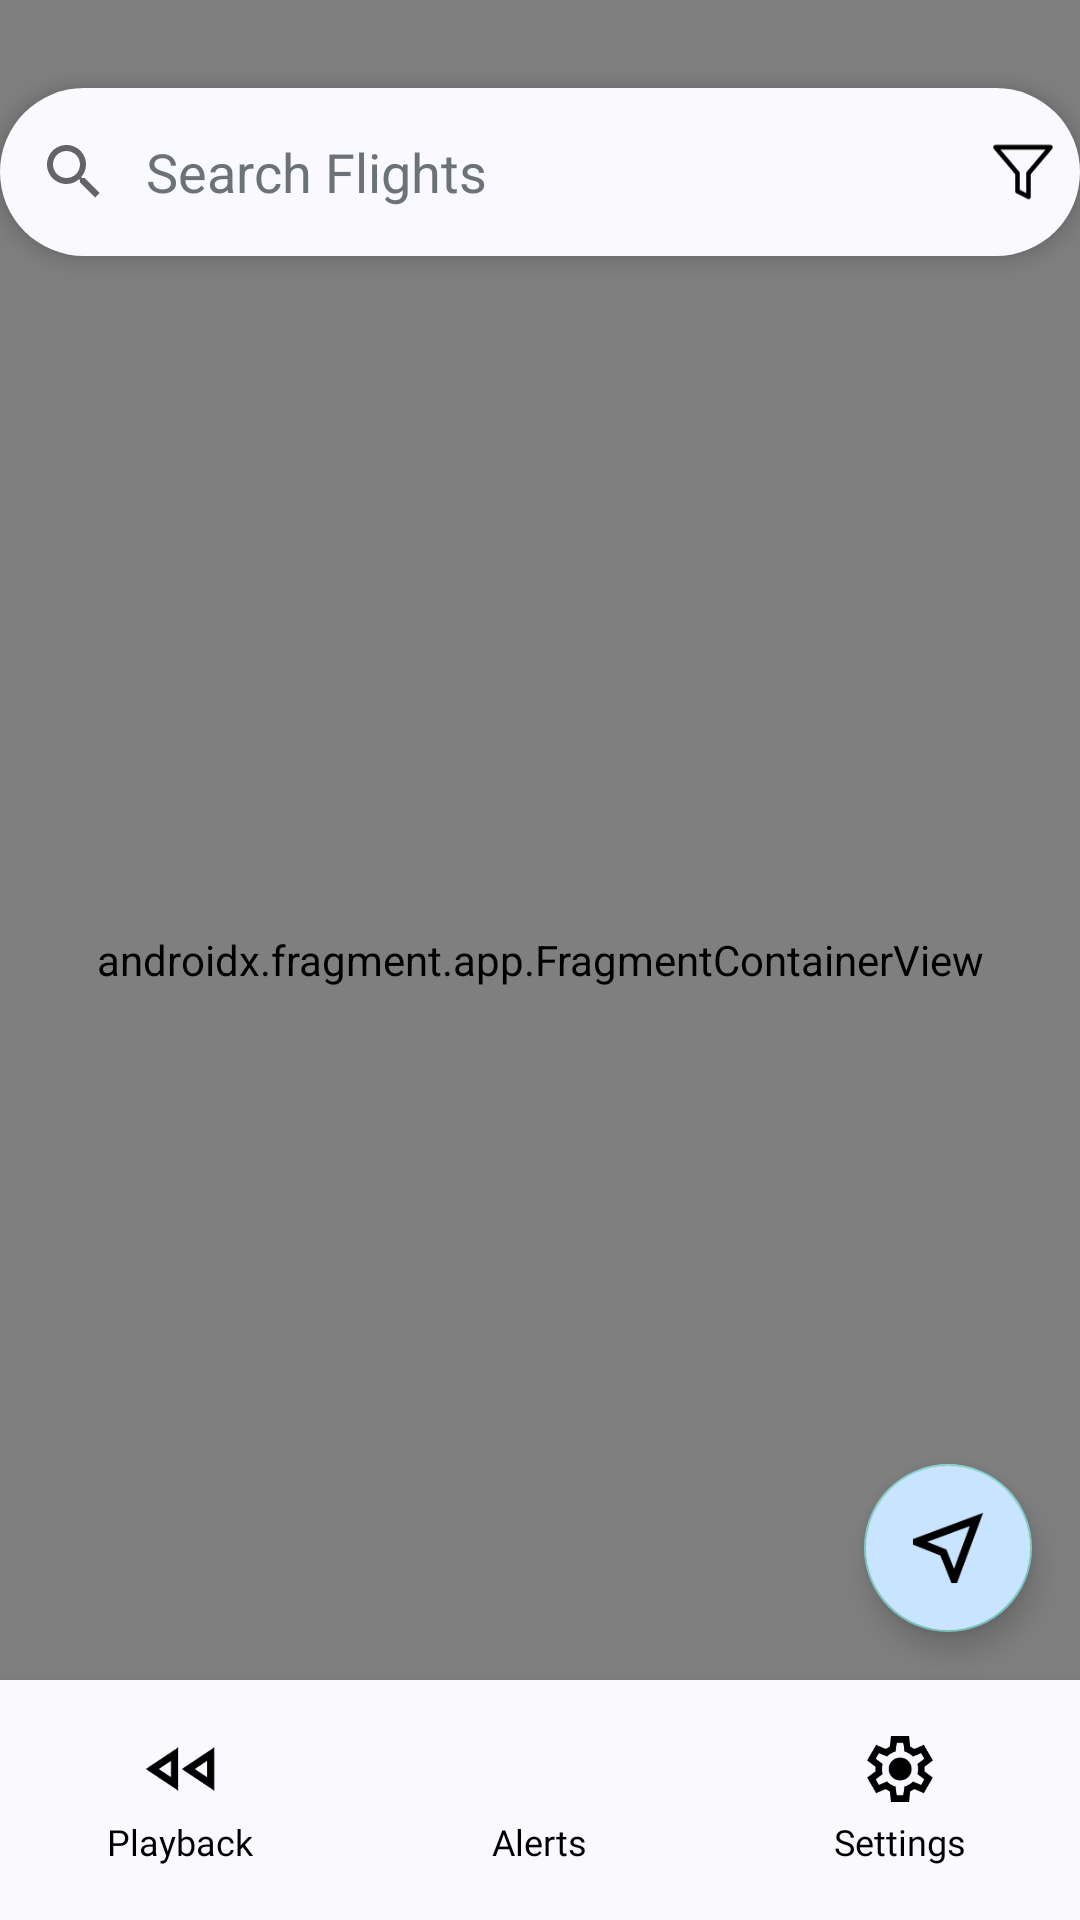

Named icons in this screenshot (1080px x 1920px) and their centers, [x,y]:
filter: [1023,172]
location: [948,1548]
